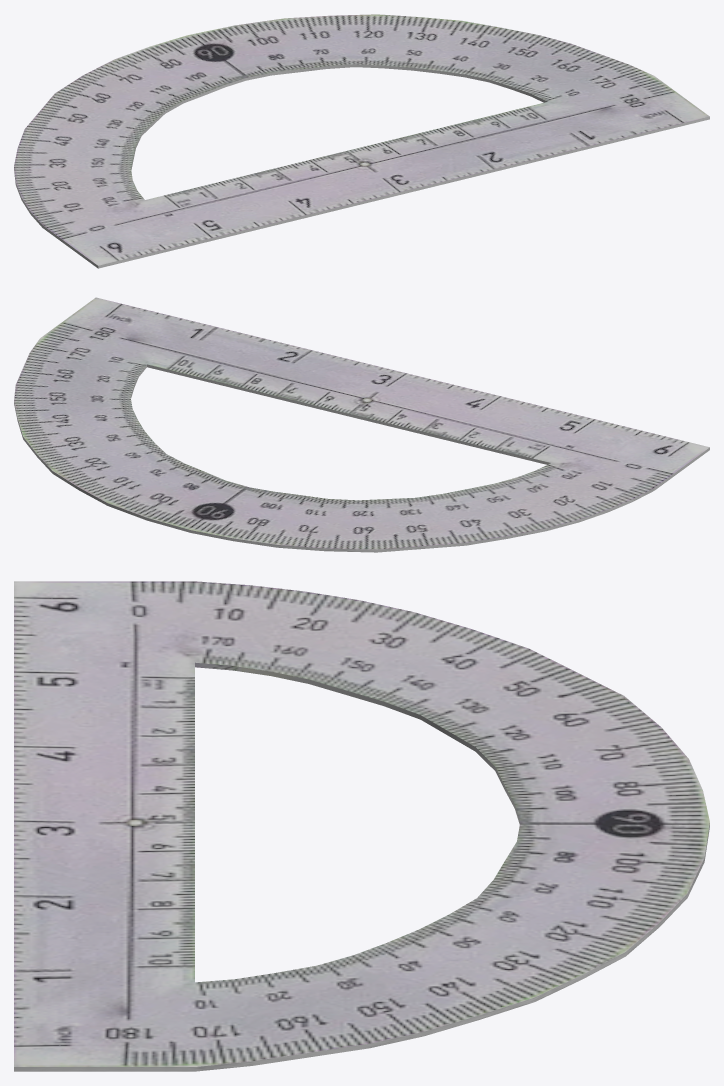
File: SM_Rulers_01c.fbx
3 renders of one model, top to bottom at view 1: azimuth 30°, elevation 25°; view 2: azimuth 150°, elevation 25°; view 3: azimuth 270°, elevation 25°, orthographic. The views are drawn at different scales.
Visible parts, largest first — view 1: SM_Rulers_01c_LOD0; view 2: SM_Rulers_01c_LOD0; view 3: SM_Rulers_01c_LOD0.
Boxes of the visible parts, bbox=[...] form: SM_Rulers_01c_LOD0: bbox=[14, 14, 709, 268]; SM_Rulers_01c_LOD0: bbox=[14, 297, 709, 552]; SM_Rulers_01c_LOD0: bbox=[14, 581, 709, 1071].
Size of the model in its own units: 15.87 by 9.61 by 0.0699.
